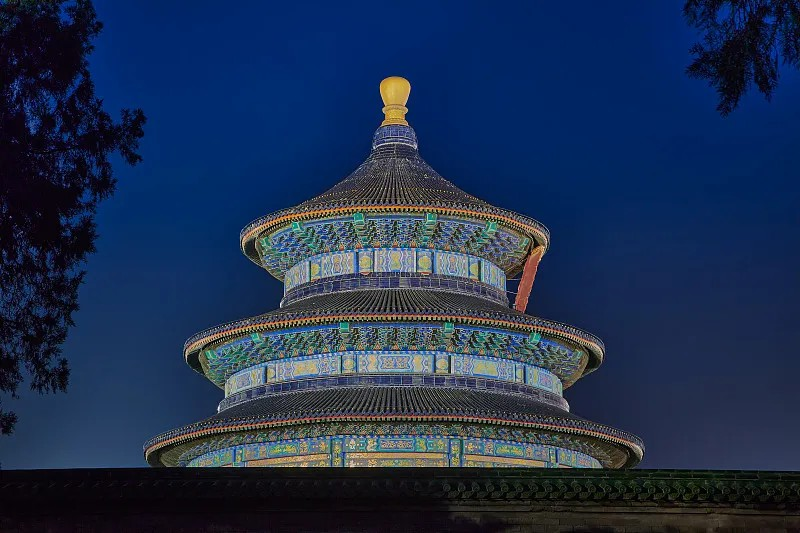Heaven: (142, 74, 645, 470)
